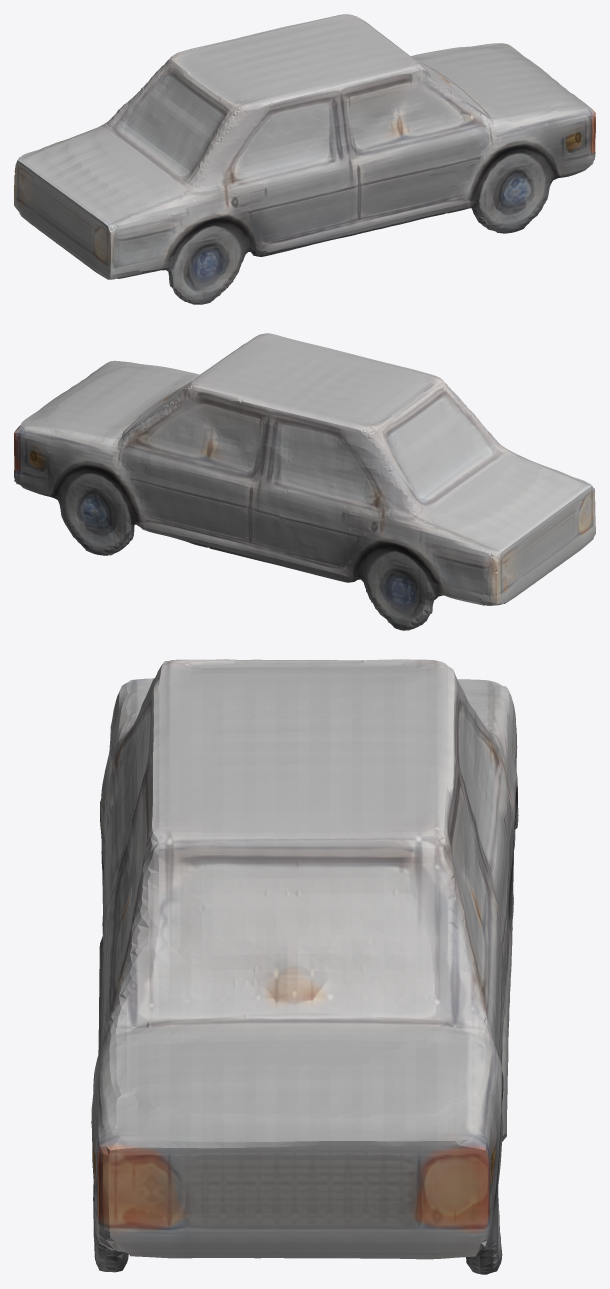
File: bicycle.glb
3 renders of one model, top to bottom at view 1: azimuth 30°, elevation 25°; view 2: azimuth 150°, elevation 25°; view 3: azimuth 270°, elevation 25°, orthographic. The views are drawn at different scales.
Parts seen in each view (by area): view 1: input.obj; view 2: input.obj; view 3: input.obj.
Part boxes in pixels (<box>): input.obj: <box>14,14,595,304</box>; input.obj: <box>14,333,595,630</box>; input.obj: <box>91,659,518,1274</box>.
Bounding box in the file's own units: 2.81 × 1 × 1.07.
1 material, 1 textured.
